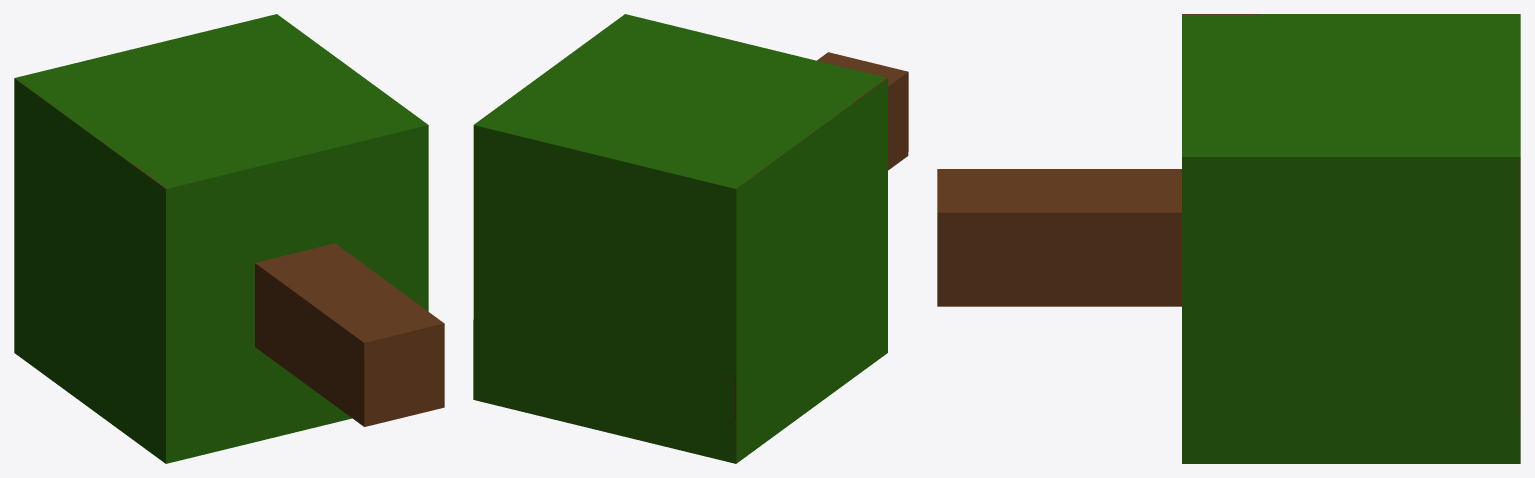
File: tree.fbx
3 views of the same model, side by side, from view 1: azimuth 30°, elevation 25°; view 2: azimuth 150°, elevation 25°; view 3: azimuth 270°, elevation 25° (orthographic). The views are drawn at different scales.
Visible parts, largest first — view 1: Cube; view 2: Cube; view 3: Cube.
Part boxes in pixels (x1,y1,x2,y2): Cube: (14, 14, 444, 463); Cube: (473, 14, 908, 463); Cube: (937, 14, 1520, 463).
Bounding box in the file's own units: 296 × 296 × 510.
